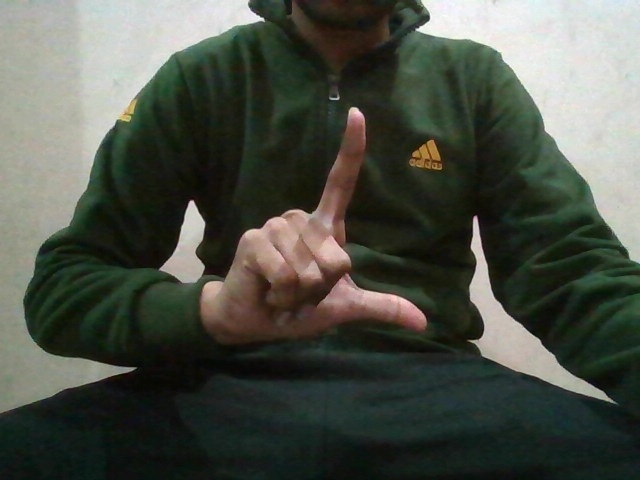L: (219, 98, 410, 349)
